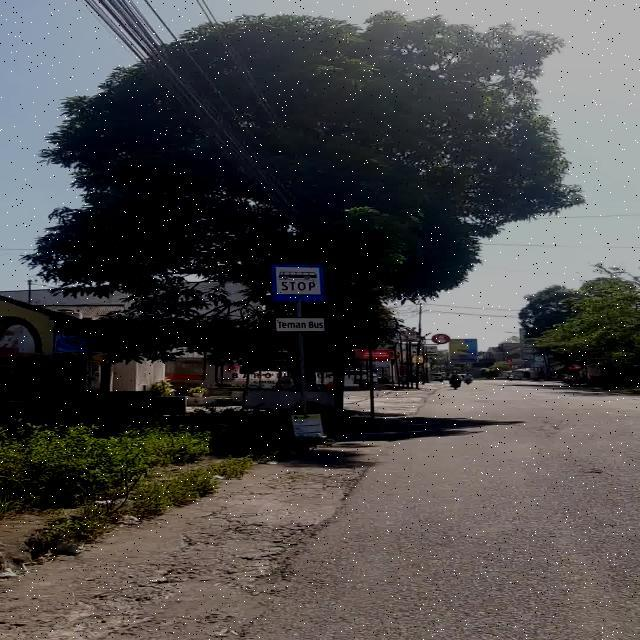Pemberhentian Bus: (271, 264, 326, 302)
